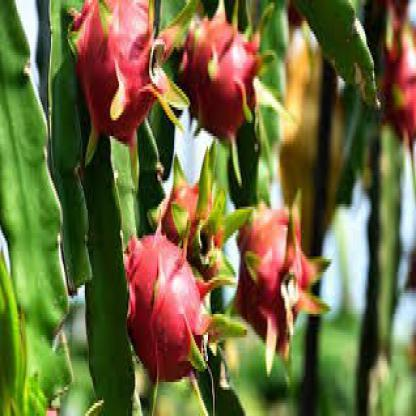dragon-fruit: (123, 235, 204, 382), (76, 0, 159, 138), (237, 208, 308, 354), (181, 19, 256, 138), (155, 185, 224, 282), (383, 28, 416, 145)
